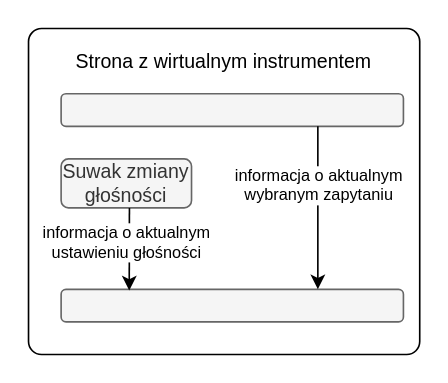
The diagram is 448 pixels wide and 383 high, and some of its shapes have lost their labels. The centre of each missing label's shape, as x and y in pixels:
"Selektor zapytań" belongs at (x=231, y=109).
"Wirtualny instrument" belongs at (x=231, y=305).
